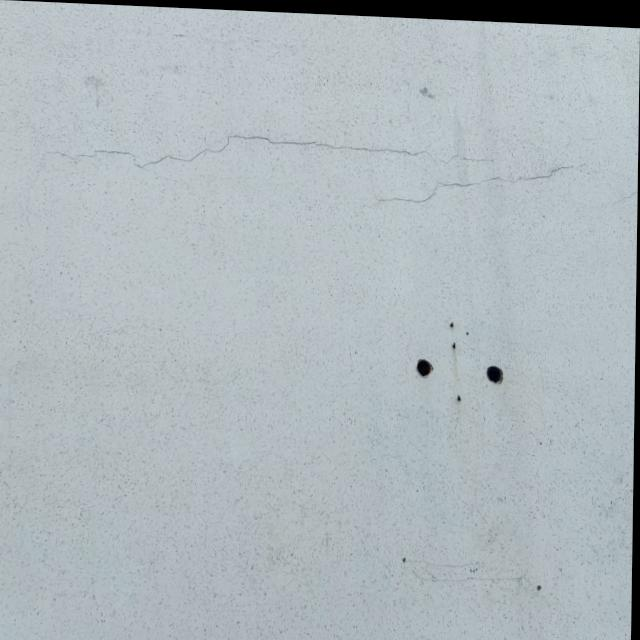crack: (41, 126, 496, 177), (375, 156, 599, 210), (611, 179, 634, 209)
spalling: (411, 356, 437, 382), (486, 363, 505, 388)
